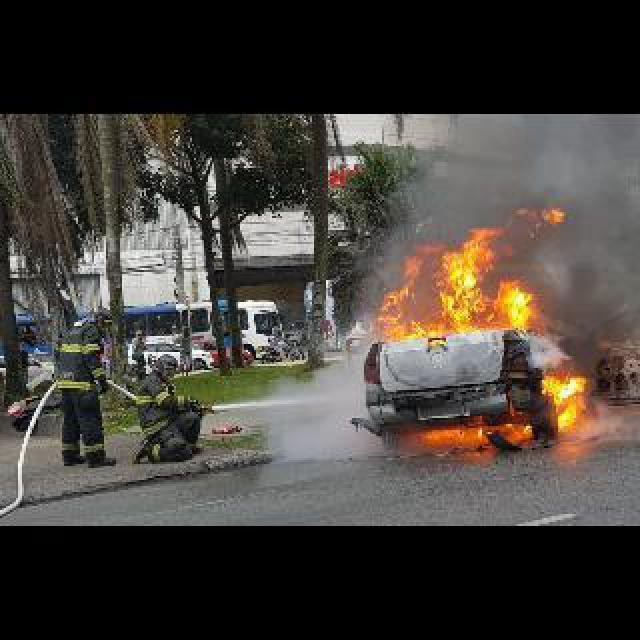Fire: (372, 200, 566, 344), (418, 368, 586, 446)
Smoke: (351, 116, 640, 342)
